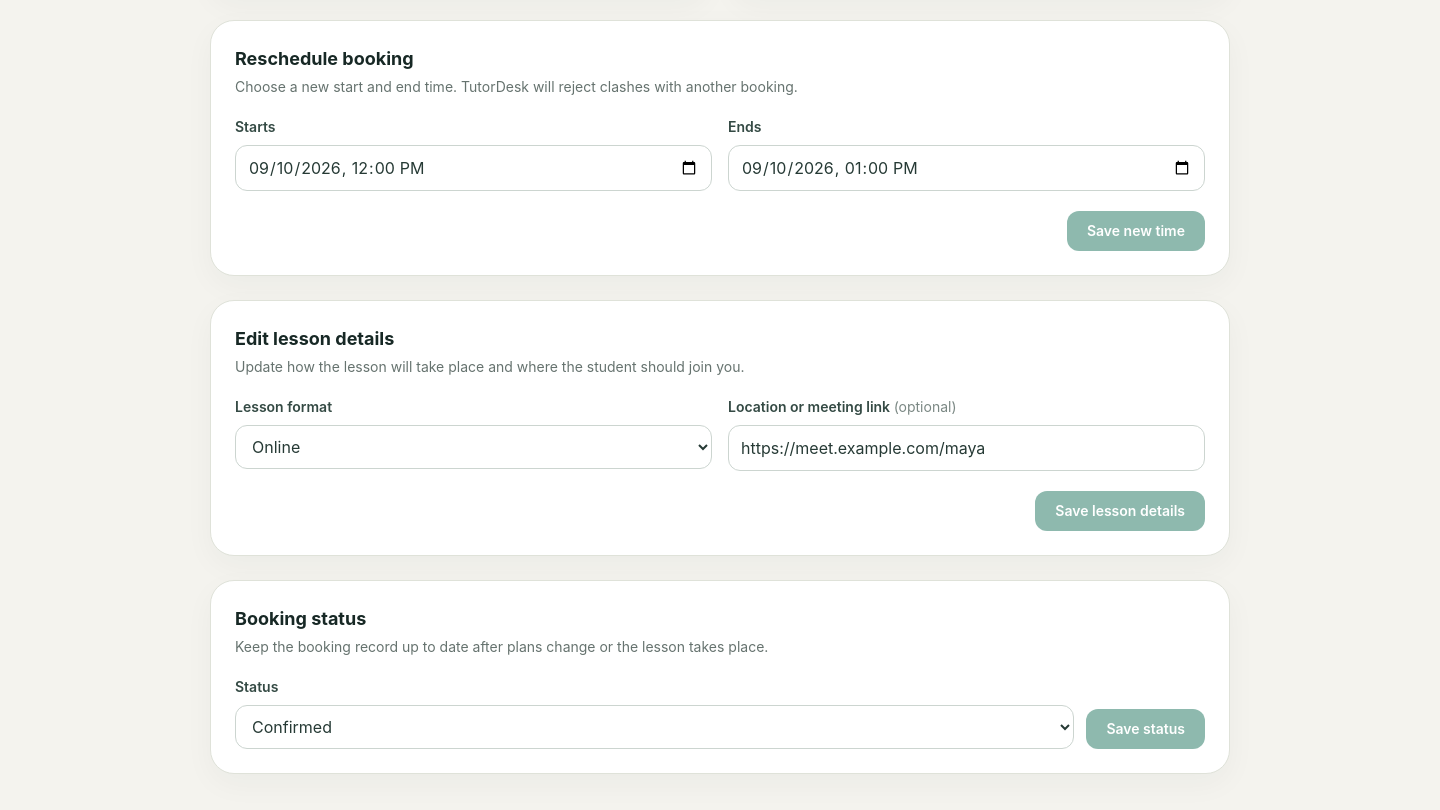
shows that a status update is being saved
The width and height of the screenshot is (1440, 810).
(page scrolled)
Select "Requested" in the dropdown labelled "Status" at (655, 726), box [235,704,1074,748]
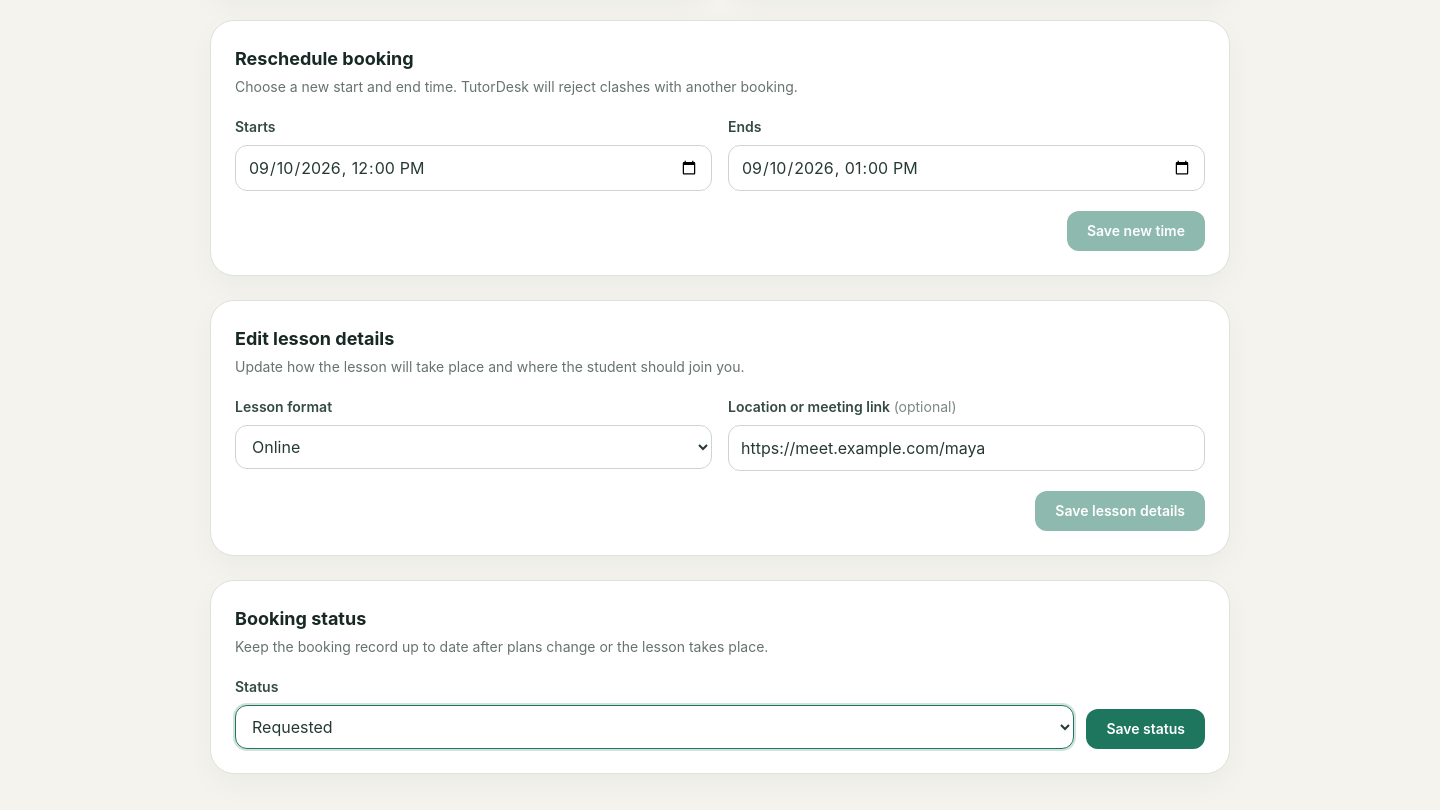
Click the button "Save status" at (1146, 728), box [1086,708,1205,748]
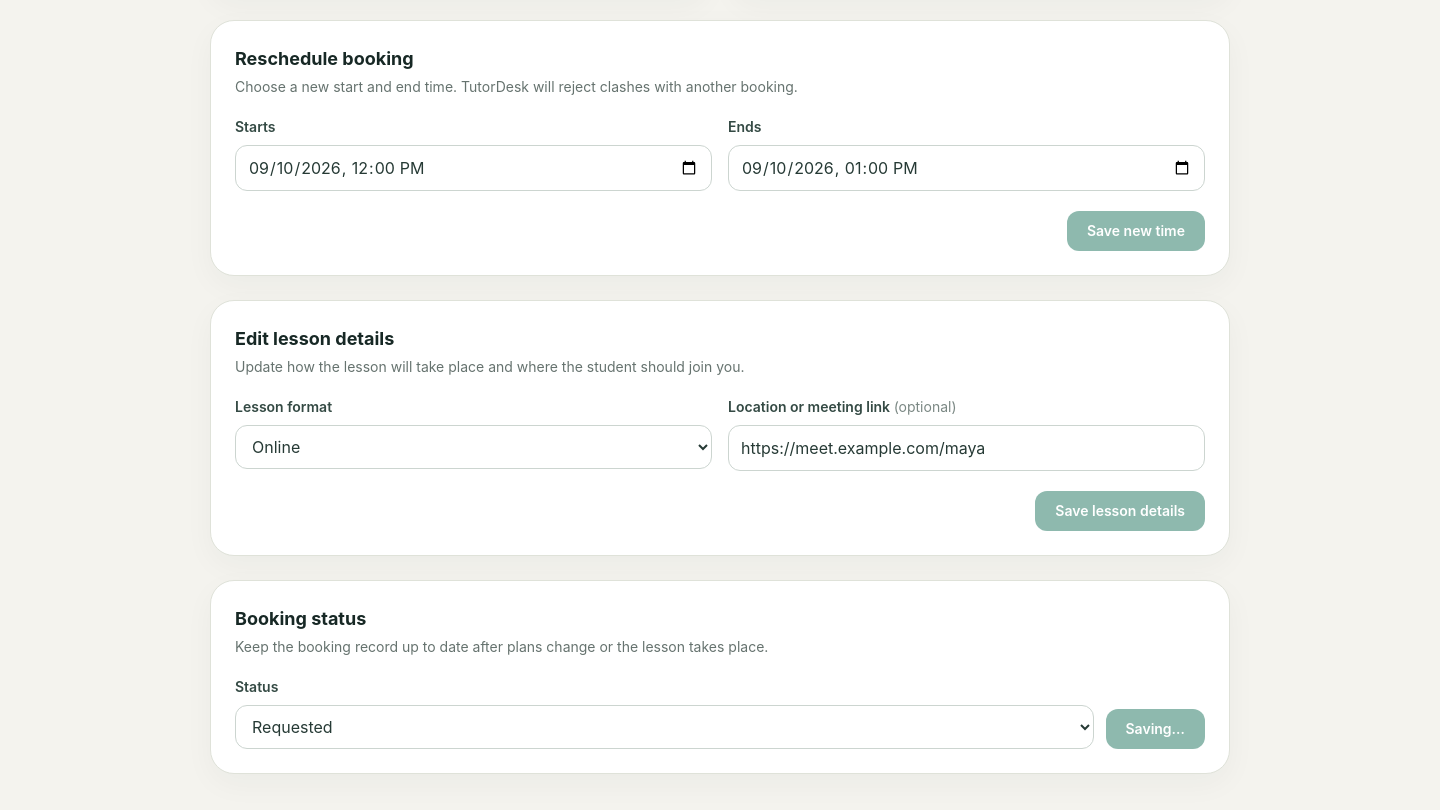
expect the button "Saving…" is disabled: met, box [1106,708,1205,748]
